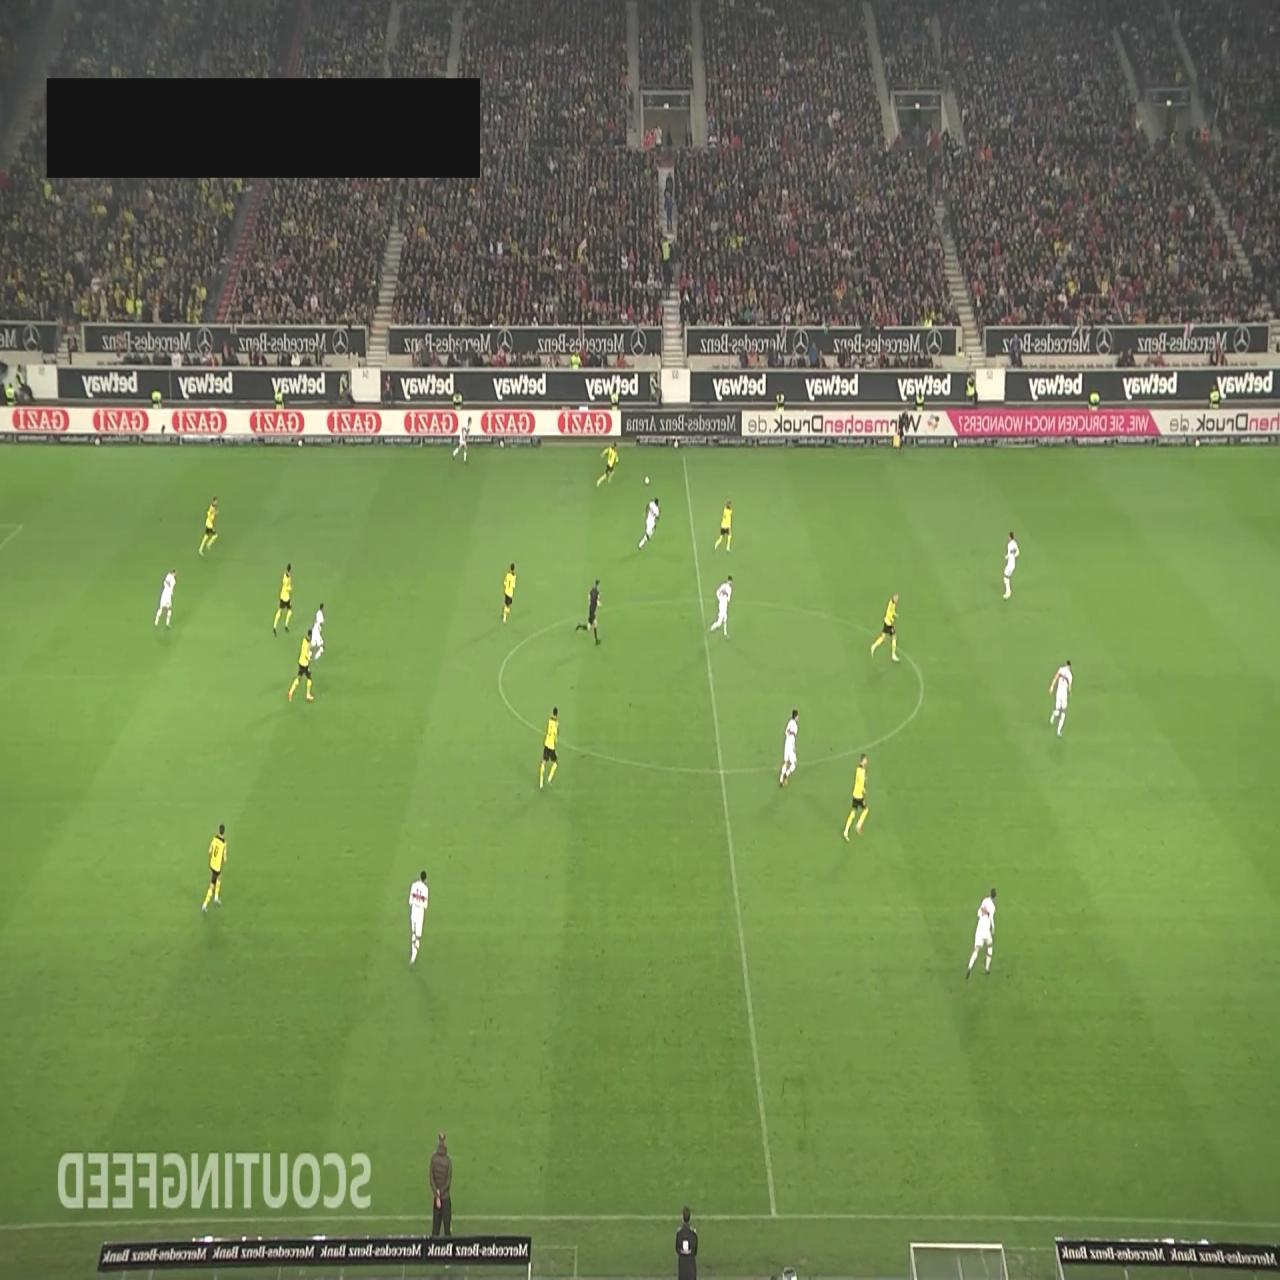ball: (644, 475, 650, 487)
player: (965, 886, 997, 982), (842, 752, 869, 842), (202, 822, 228, 914), (287, 628, 316, 703), (870, 592, 900, 662), (408, 869, 429, 968), (1048, 658, 1073, 737), (539, 705, 560, 791), (779, 708, 799, 788), (272, 562, 293, 636), (710, 574, 734, 638), (154, 569, 177, 627), (198, 494, 219, 556), (637, 497, 661, 550), (1002, 530, 1020, 598), (713, 496, 733, 554), (501, 562, 517, 624), (597, 442, 619, 487), (453, 415, 472, 463), (310, 601, 324, 661)
referee: (575, 577, 602, 646), (891, 406, 909, 456)
